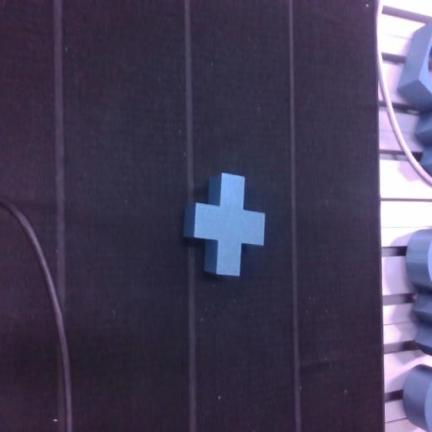cross: (184, 173, 264, 275)
